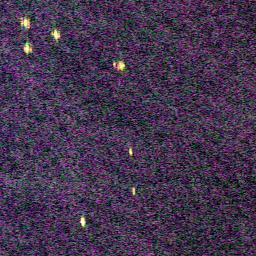Ship: (48, 28, 63, 42), (111, 60, 128, 72), (125, 144, 138, 158), (23, 41, 34, 55), (78, 215, 87, 229), (20, 18, 31, 27), (131, 184, 138, 198)
